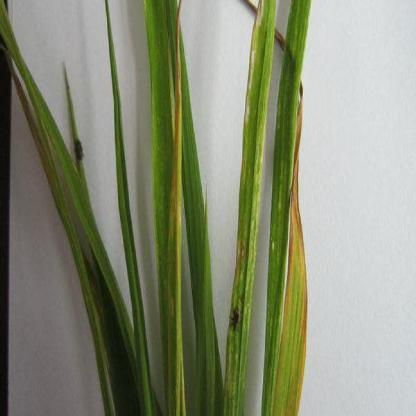rice-bug: (74, 136, 86, 161), (229, 303, 240, 330)
